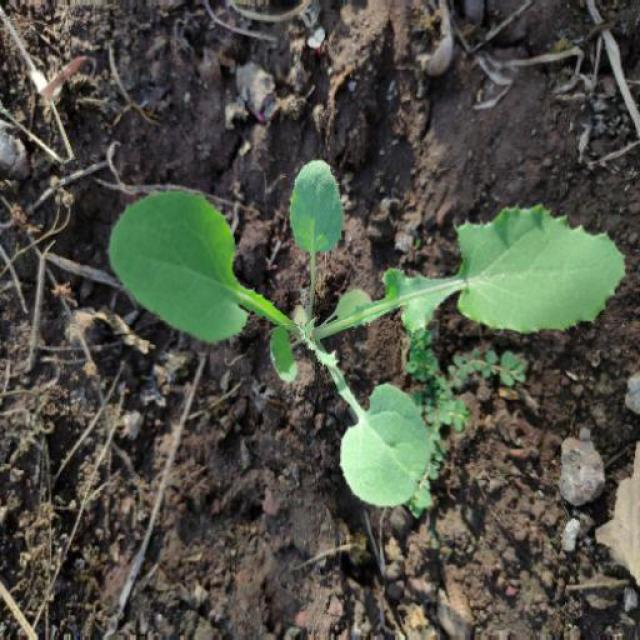weed: (90, 149, 632, 536)
